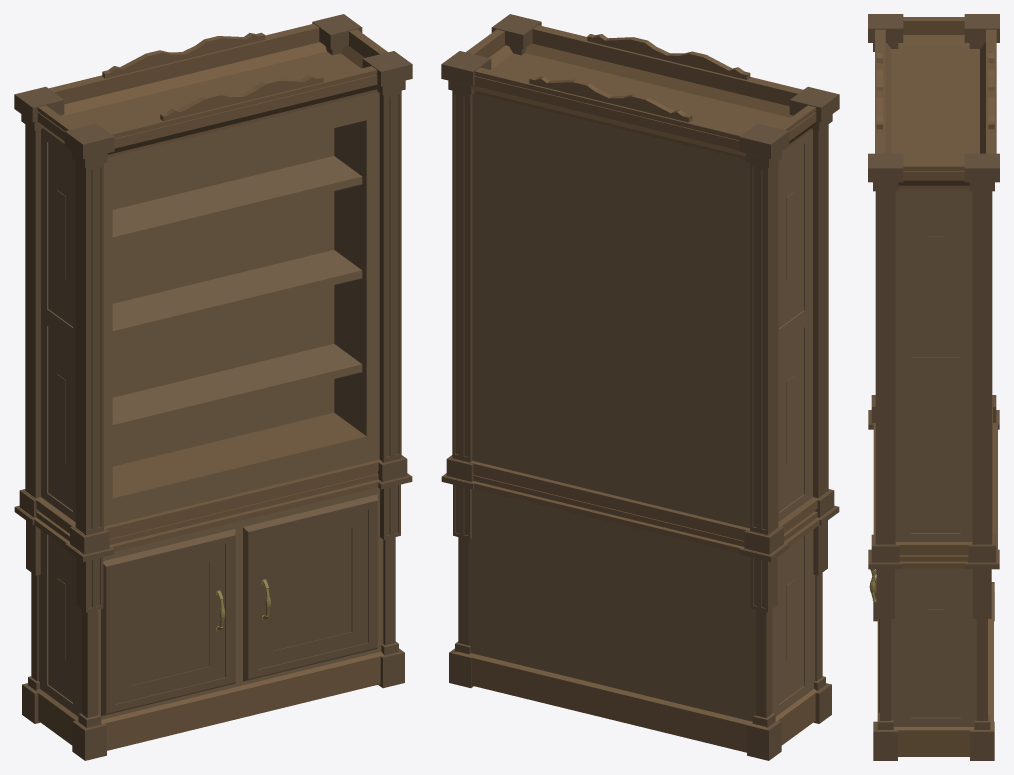
File: Bookcase.glb
3 views of the same model, side by side, from view 1: azimuth 30°, elevation 25°; view 2: azimuth 150°, elevation 25°; view 3: azimuth 270°, elevation 25° (orthographic). The views are drawn at different scales.
Visible parts, largest first — view 1: BookCase_Single, BookCase_RightDoor, BookCase_LeftDoor; view 2: BookCase_Single; view 3: BookCase_Single, BookCase_RightDoor.
Boxes of the visible parts, <box> form: BookCase_Single: <box>14,14,412,760</box>; BookCase_RightDoor: <box>243,494,377,681</box>; BookCase_LeftDoor: <box>101,529,235,716</box>; BookCase_Single: <box>441,14,839,760</box>; BookCase_Single: <box>868,14,999,760</box>; BookCase_RightDoor: <box>869,569,879,712</box>.
Size of the model in its own units: 1.84 by 3.37 by 0.6644.
